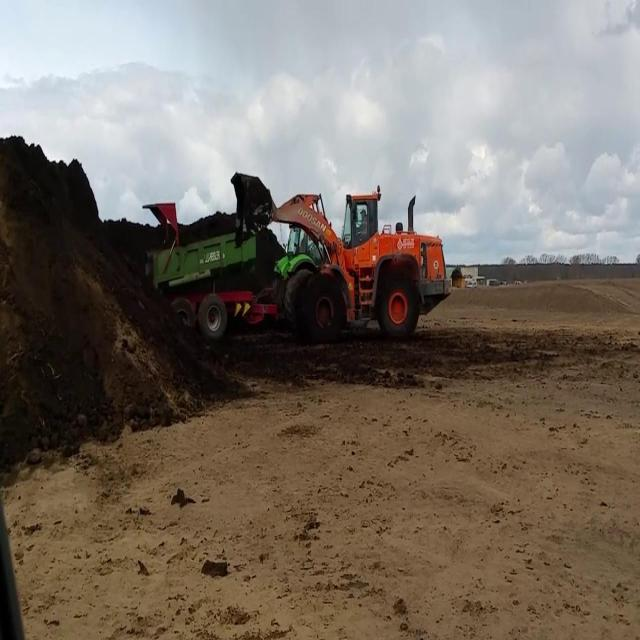buldozerpayloadergrader: (230, 169, 452, 339)
dump_truck: (139, 199, 331, 340)
